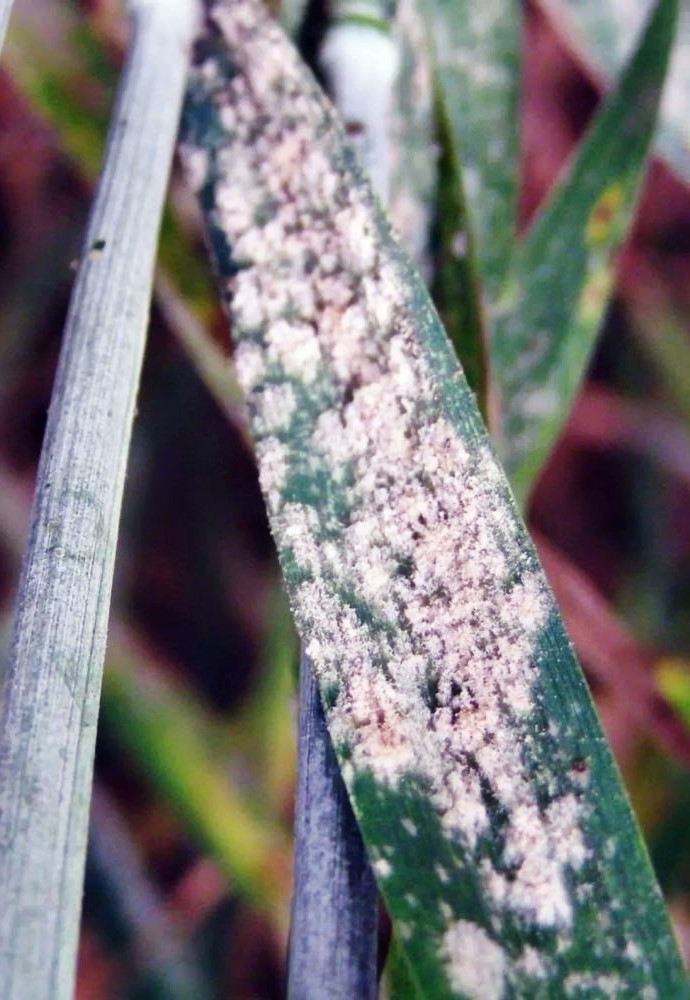Powdery Mildew: (205, 104, 597, 892)
